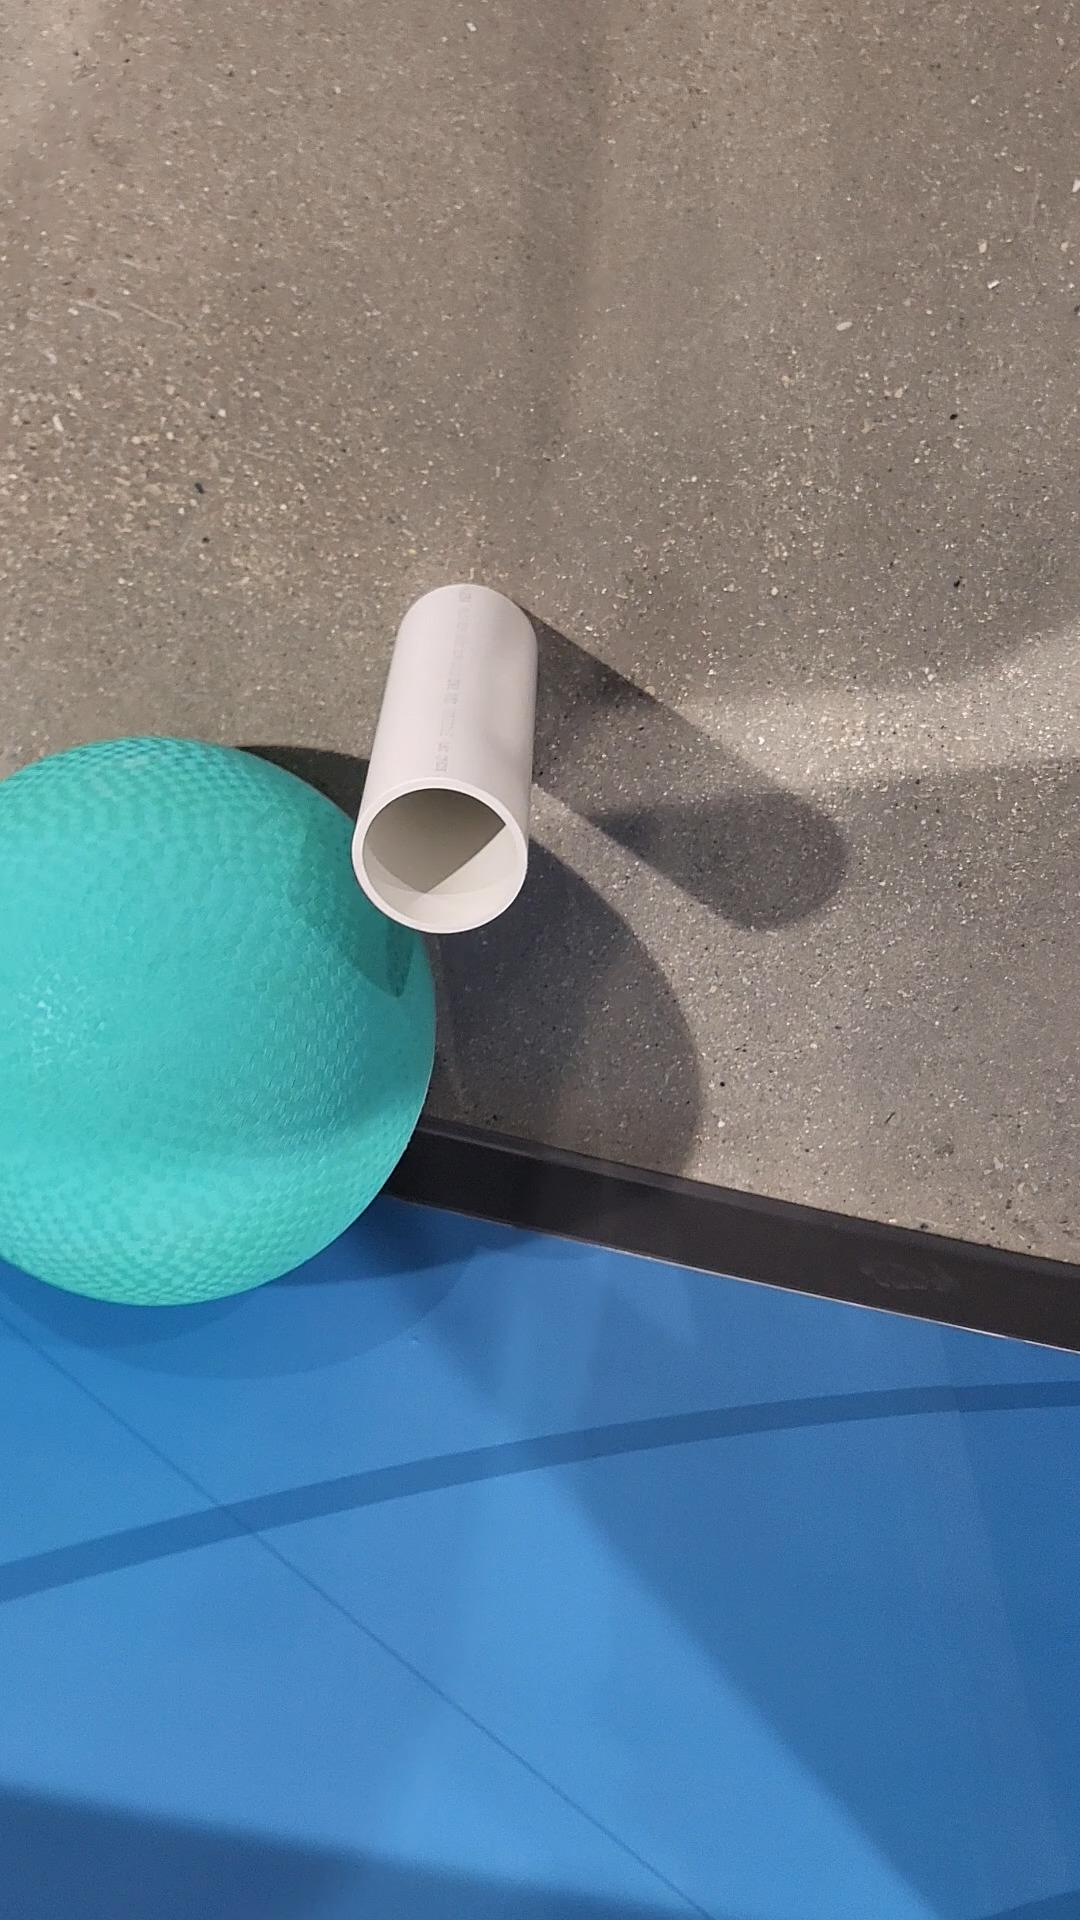algae: (0, 736, 436, 1309)
coral: (351, 583, 543, 935)
